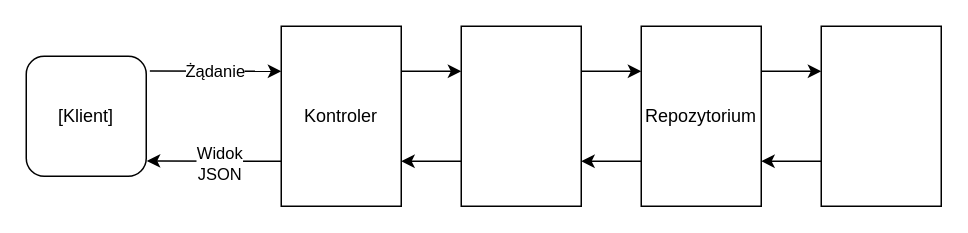
Some shapes in this 968 by 233 pixel diagram are drawn without their labels. The shapes that lost their labels are listed below. From the top down, each one's box as (x1, y1, x2, y2) in pixels, then its label:
(460, 25, 581, 206): Usługa
(820, 25, 941, 206): Obiekt modelu
